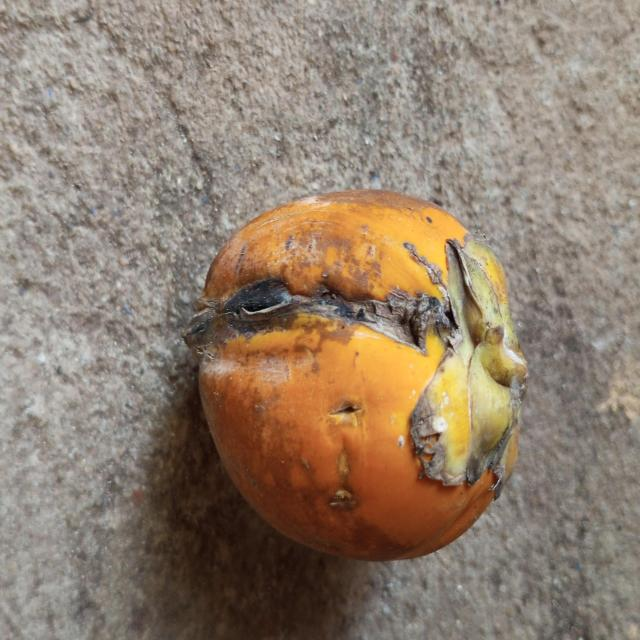damaged: (184, 190, 529, 564)
